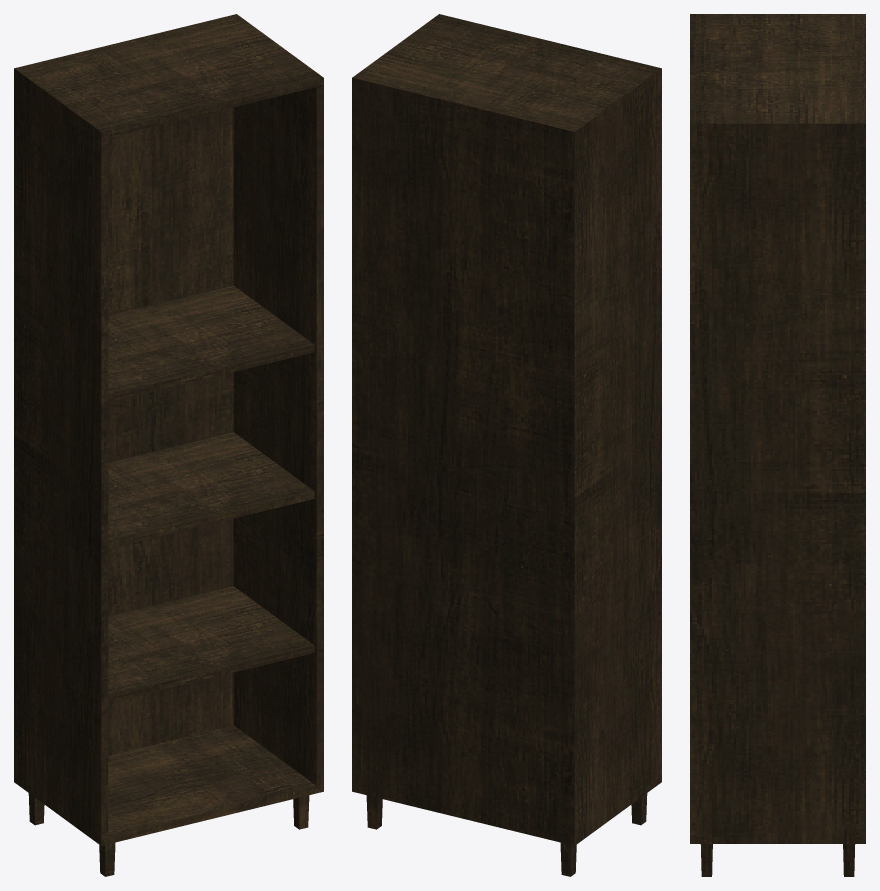
File: shelf_mp_1_3.glb
The picture shows the model from 3 angles, left to right: view 1: azimuth 30°, elevation 25°; view 2: azimuth 150°, elevation 25°; view 3: azimuth 270°, elevation 25°; orthographic projection.
Visible parts, largest first — view 1: shelf_mp_1_3; view 2: shelf_mp_1_3; view 3: shelf_mp_1_3.
Boxes of the visible parts, <box> form: shelf_mp_1_3: <box>14,14,323,876</box>; shelf_mp_1_3: <box>352,14,661,876</box>; shelf_mp_1_3: <box>690,14,865,876</box>.
Bounding box in the file's own units: 0.62 × 2 × 0.42.
1 material, 1 textured.
